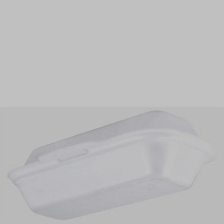foam_box: (0, 106, 224, 224)
